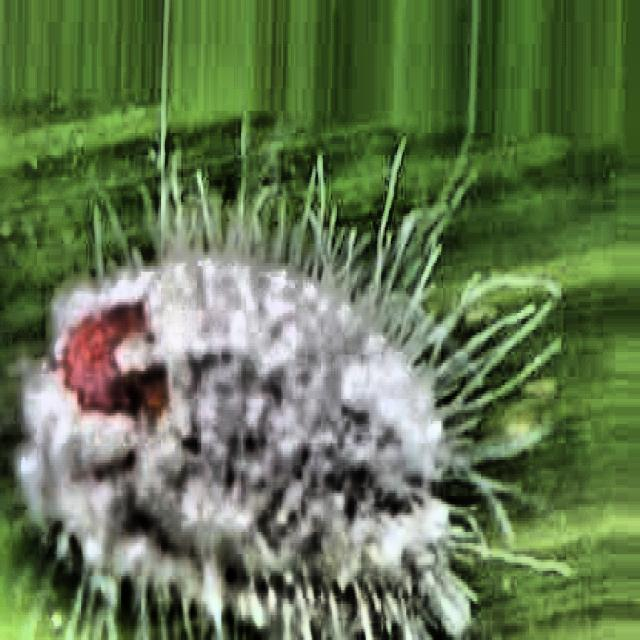Mealy-bug: (5, 129, 521, 639)
